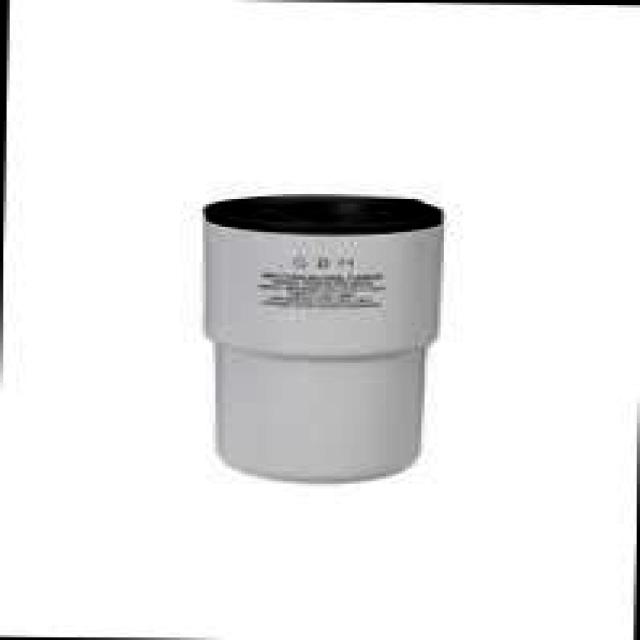bottle: (195, 189, 442, 486)
